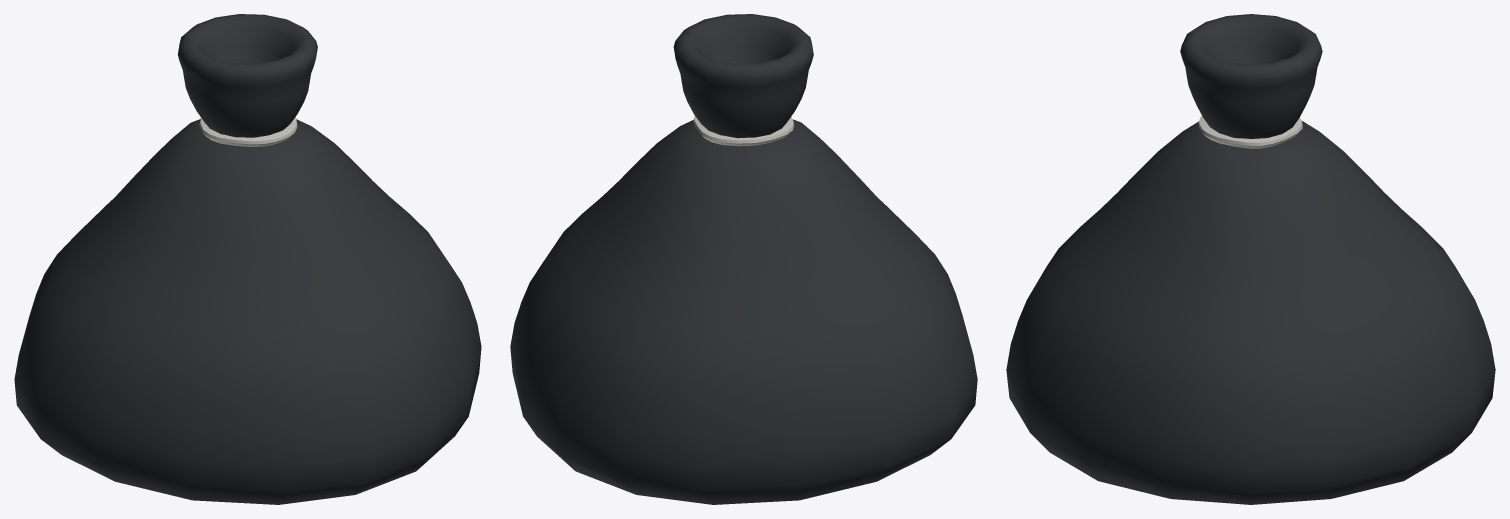
Rendered from Bolsa_05.fbx.
The picture shows the model from 3 angles, left to right: view 1: azimuth 30°, elevation 25°; view 2: azimuth 150°, elevation 25°; view 3: azimuth 270°, elevation 25°; orthographic projection.
Parts seen in each view (by area): view 1: Bolsa_05; view 2: Bolsa_05; view 3: Bolsa_05.
Part boxes in pixels (x1,y1,x2,y2): Bolsa_05: [14, 14, 481, 504]; Bolsa_05: [510, 14, 977, 504]; Bolsa_05: [1006, 14, 1495, 504].
Bounding box in the file's own units: 72.04 × 62.93 × 72.04.
